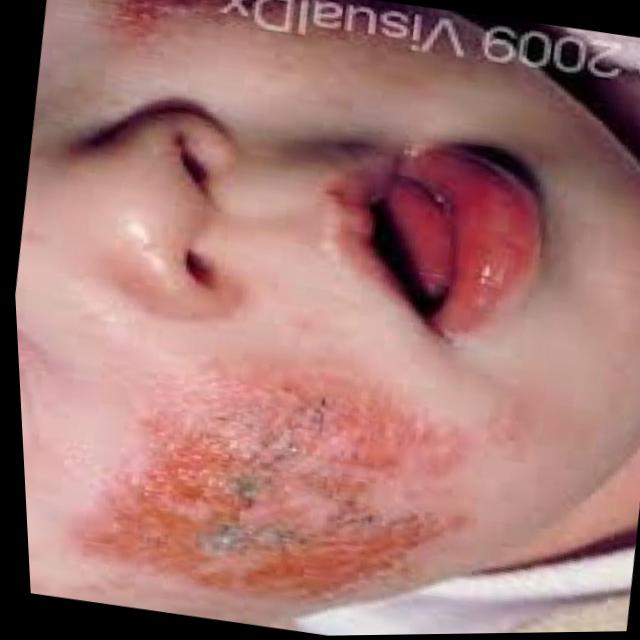Eczema: (75, 341, 496, 639), (108, 0, 243, 18)
